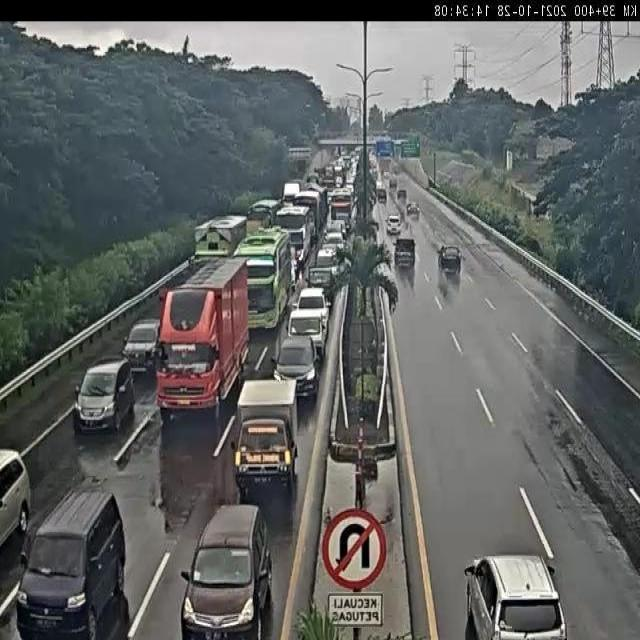Bus: (228, 227, 290, 331)
Car: (17, 485, 128, 633), (180, 506, 272, 637), (464, 554, 567, 638), (232, 379, 300, 505), (72, 362, 130, 444), (272, 331, 321, 402), (1, 449, 31, 556), (121, 319, 162, 373), (294, 286, 329, 335), (311, 247, 344, 297), (438, 244, 462, 274), (394, 237, 415, 268), (386, 214, 402, 234), (406, 202, 420, 218)
Truck: (150, 267, 251, 425), (190, 216, 248, 262), (276, 201, 313, 264), (243, 191, 277, 239)
